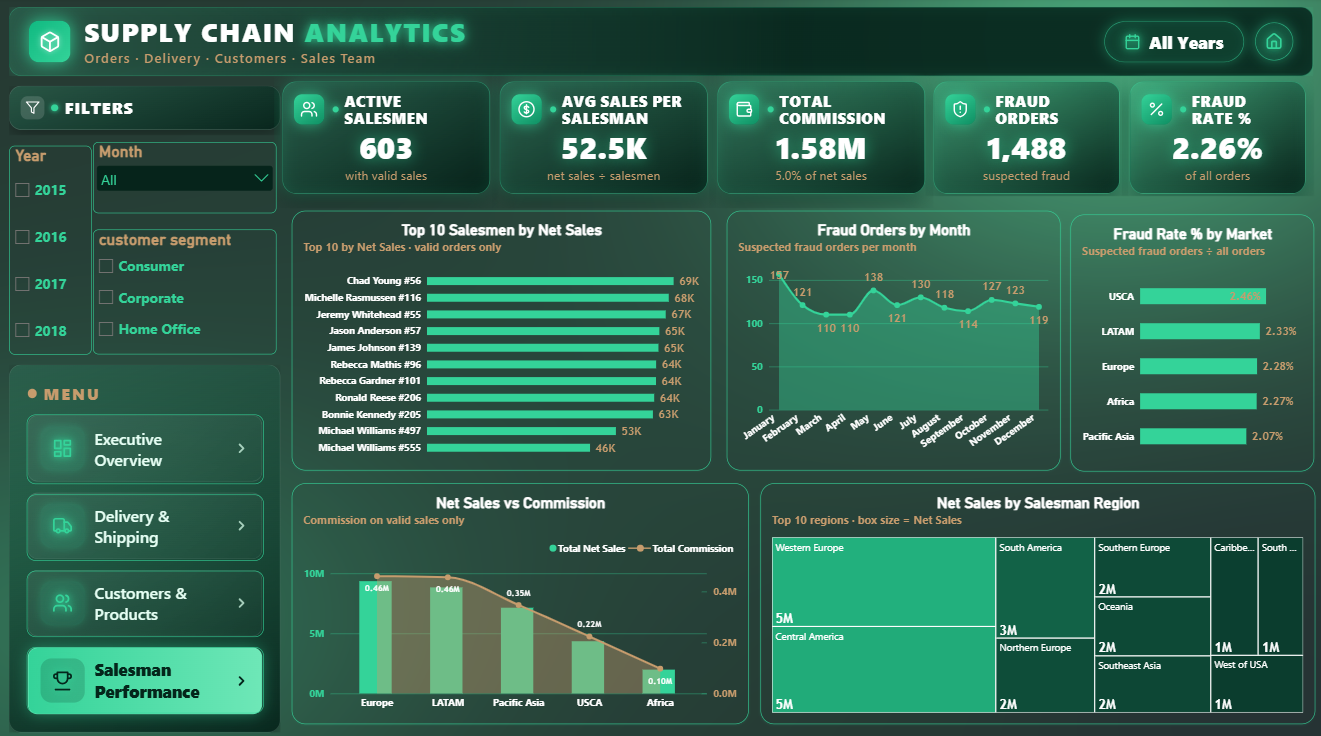

What the dashboard file says about the page in this screenshot:
{"tool":"powerbi","page":{"name":"Salesman & Fraud Performance","canvas":[1920,1080],"ordinal":4},"visuals":[{"type":"htmlContent443BE3AD55E043BF878BED274D3A6855","fields":{"content":["Base HTML.HTML Header"]},"box":[0,0,1920,129.7],"z":0},{"type":"htmlContent443BE3AD55E043BF878BED274D3A6855","fields":{"content":["Base HTML.HTML Filter Header"]},"box":[0,114.4,424.7,100.8],"z":1000},{"type":"htmlContent443BE3AD55E043BF878BED274D3A6855","fields":{"content":["Base HTML.HTML Menu P4"]},"box":[0,517.6,424.7,562.4],"z":2000},{"type":"htmlContent443BE3AD55E043BF878BED274D3A6855","fields":{"content":["HTML DASHBOARD 4.Card Active Salesmen"]},"box":[384,95,357.2,225.2],"z":3000},{"type":"htmlContent443BE3AD55E043BF878BED274D3A6855","fields":{"content":["HTML DASHBOARD 4.Card Avg Sales per Salesman"]},"box":[698.3,95,357.2,225.2],"z":4000},{"type":"htmlContent443BE3AD55E043BF878BED274D3A6855","fields":{"content":["HTML DASHBOARD 4.Card Commission"]},"box":[1012.5,95,357.2,225.2],"z":5000},{"type":"htmlContent443BE3AD55E043BF878BED274D3A6855","fields":{"content":["HTML DASHBOARD 4.Card Fraud Orders"]},"box":[1326.8,95,325.8,207.5],"z":6000},{"type":"htmlContent443BE3AD55E043BF878BED274D3A6855","fields":{"content":["HTML DASHBOARD 4.Card Fraud Rate"]},"box":[1609.7,95,310.3,207.5],"z":7000},{"type":"clusteredBarChart","title":"Top 10 Salesmen by Net Sales","fields":{"Category":["Gold DimSalesman.Salesman Label"],"Y":["CALC Executive Sales & Profit Overview.Total Net Sales"]},"box":[424.7,310.3,607,376.2],"z":8000},{"type":"lineChart","title":"Fraud Orders by Month","fields":{"Category":["Gold DimDate.Month_Name"],"Y":["CALC Salesman & Order Risk Performance.Fraud Orders"]},"box":[1055,310.3,482.9,376.2],"z":9000},{"type":"lineClusteredColumnComboChart","title":"Net Sales vs Commission","fields":{"Category":["Gold DimSalesman.Salesman_Market"],"Y":["CALC Executive Sales & Profit Overview.Total Net Sales"],"Y2":["CALC Salesman & Order Risk Performance.Total Commission"]},"box":[424.7,704,661.3,349.1],"z":10000},{"type":"clusteredBarChart","title":"Fraud Rate % by Market","fields":{"Category":["Gold FactOrders.Market"],"Y":["CALC Salesman & Order Risk Performance.Fraud Rate %"]},"box":[1553.5,314.2,353,372.4],"z":11000},{"type":"treemap","title":"Net Sales by Salesman Region","fields":{"Group":["Gold DimSalesman.Salesman_Region"],"Values":["CALC Executive Sales & Profit Overview.Total Net Sales"]},"box":[1103.5,704,802.9,349.1],"z":12000},{"type":"slicer","fields":{"Values":["Gold DimDate.Year"]},"box":[16,215.1,119,302.1],"z":13000},{"type":"slicer","fields":{"Values":["Gold DimCustomers.customer_segment"]},"box":[137.3,336.4,265.5,180.8],"z":14000},{"type":"slicer","fields":{"Values":["Gold DimDate.Month_Name"]},"box":[137.3,210.5,265.5,103],"z":15000},{"type":"actionButton","box":[41.2,604.1,343.3,100.7],"z":16000},{"type":"actionButton","box":[41.2,720.9,343.3,96.1],"z":17000},{"type":"actionButton","box":[41.2,940.5,343.3,96.1],"z":18000},{"type":"actionButton","box":[41.2,830.7,343.3,96.1],"z":19000},{"type":"actionButton","box":[1811.4,27.2,73.7,71.8],"z":20000}]}

Visuals, with their boxes in screenshot pixels (x1, y1, x2, y2), scaled from the page's 1920x1080 canvas onto the 1321x736 screenshot:
htmlContent443BE3AD55E043BF878BED274D3A6855 - Base HTML.HTML Header: [x1=0, y1=0, x2=1320, y2=88]
htmlContent443BE3AD55E043BF878BED274D3A6855 - Base HTML.HTML Filter Header: [x1=0, y1=78, x2=292, y2=147]
htmlContent443BE3AD55E043BF878BED274D3A6855 - Base HTML.HTML Menu P4: [x1=0, y1=353, x2=292, y2=735]
htmlContent443BE3AD55E043BF878BED274D3A6855 - HTML DASHBOARD 4.Card Active Salesmen: [x1=264, y1=65, x2=510, y2=218]
htmlContent443BE3AD55E043BF878BED274D3A6855 - HTML DASHBOARD 4.Card Avg Sales per Salesman: [x1=480, y1=65, x2=726, y2=218]
htmlContent443BE3AD55E043BF878BED274D3A6855 - HTML DASHBOARD 4.Card Commission: [x1=697, y1=65, x2=942, y2=218]
htmlContent443BE3AD55E043BF878BED274D3A6855 - HTML DASHBOARD 4.Card Fraud Orders: [x1=913, y1=65, x2=1137, y2=206]
htmlContent443BE3AD55E043BF878BED274D3A6855 - HTML DASHBOARD 4.Card Fraud Rate: [x1=1108, y1=65, x2=1320, y2=206]
"Top 10 Salesmen by Net Sales" clusteredBarChart: [x1=292, y1=211, x2=710, y2=468]
"Fraud Orders by Month" lineChart: [x1=726, y1=211, x2=1058, y2=468]
"Net Sales vs Commission" lineClusteredColumnComboChart: [x1=292, y1=480, x2=747, y2=718]
"Fraud Rate % by Market" clusteredBarChart: [x1=1069, y1=214, x2=1312, y2=468]
"Net Sales by Salesman Region" treemap: [x1=759, y1=480, x2=1312, y2=718]
slicer - Gold DimDate.Year: [x1=11, y1=147, x2=93, y2=352]
slicer - Gold DimCustomers.customer_segment: [x1=94, y1=229, x2=277, y2=352]
slicer - Gold DimDate.Month_Name: [x1=94, y1=143, x2=277, y2=214]
actionButton: [x1=28, y1=412, x2=265, y2=480]
actionButton: [x1=28, y1=491, x2=265, y2=557]
actionButton: [x1=28, y1=641, x2=265, y2=706]
actionButton: [x1=28, y1=566, x2=265, y2=632]
actionButton: [x1=1246, y1=19, x2=1297, y2=67]
